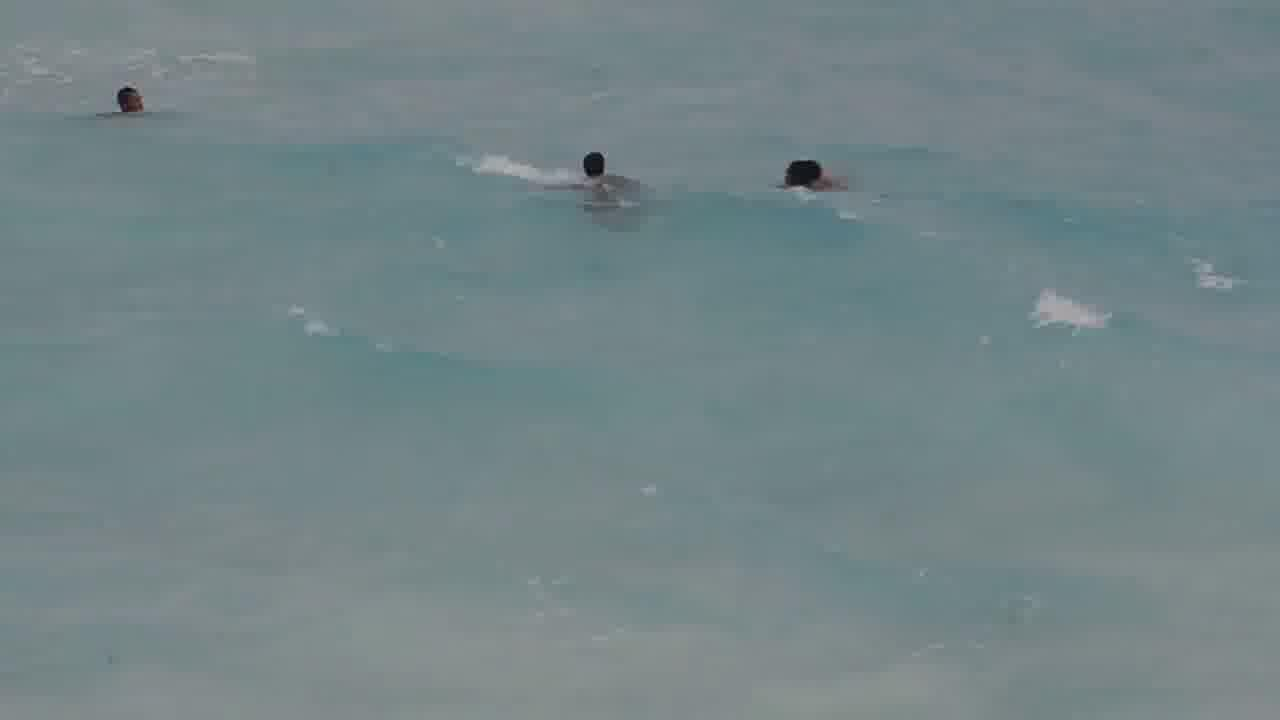human: (774, 156, 847, 207), (573, 144, 628, 194), (107, 86, 154, 113)
